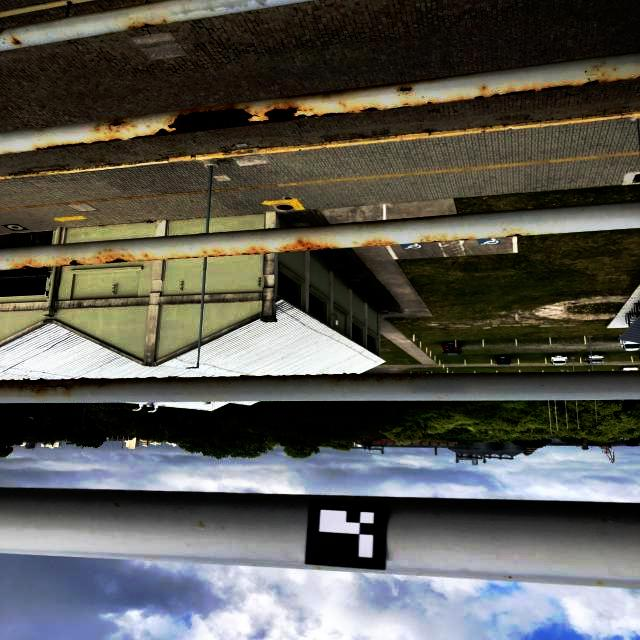Corrosion: (33, 102, 389, 151), (387, 60, 640, 110), (8, 378, 101, 393), (167, 248, 274, 260), (92, 250, 159, 264), (8, 258, 88, 269), (280, 238, 338, 253), (124, 20, 161, 31), (94, 118, 127, 130), (363, 241, 397, 247), (399, 87, 414, 93), (420, 240, 445, 243), (12, 38, 22, 45), (455, 239, 470, 240)
